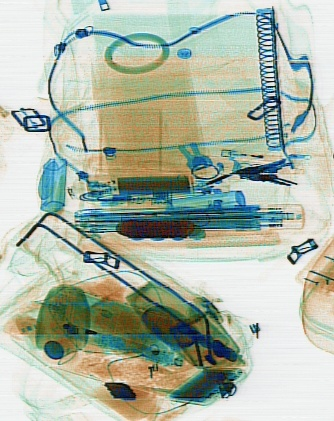lighter: (220, 146, 289, 163)
